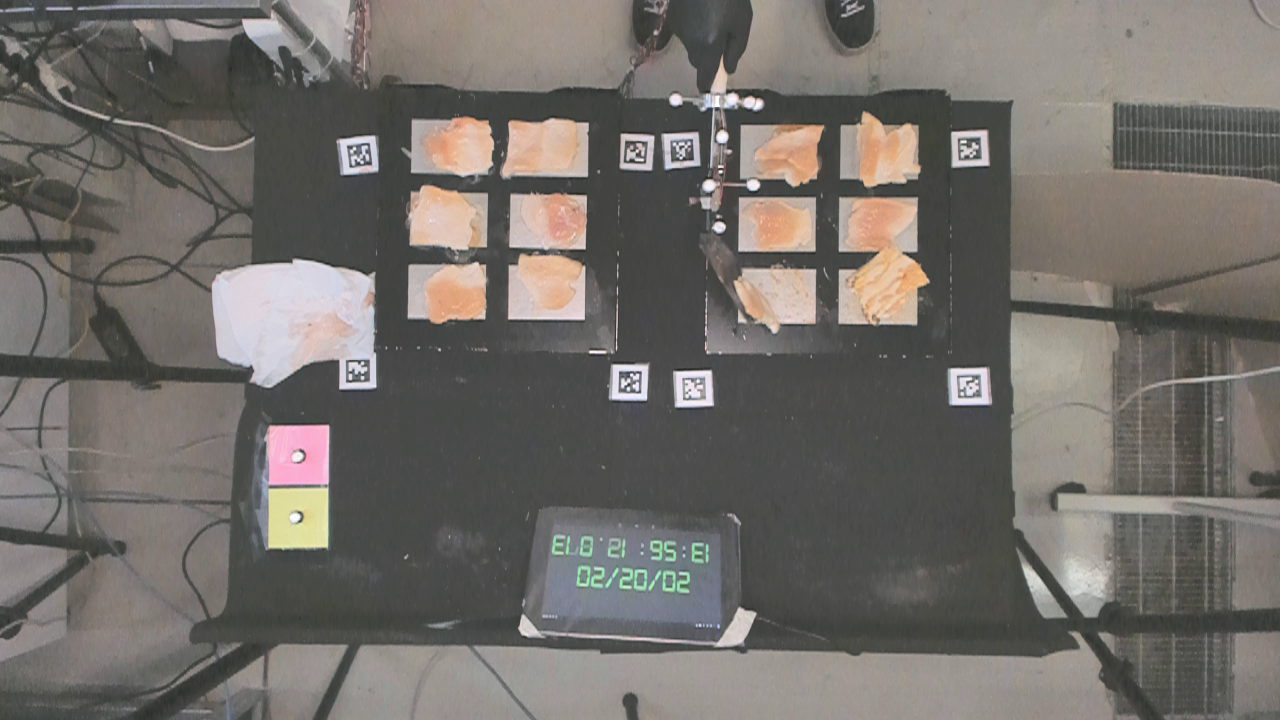chicken: (846, 245, 929, 324), (401, 189, 485, 251), (855, 112, 921, 187), (420, 113, 494, 177), (753, 124, 824, 185), (502, 118, 582, 172), (847, 198, 924, 250), (516, 254, 585, 311), (425, 260, 485, 323), (523, 189, 585, 246), (744, 199, 815, 248), (735, 279, 781, 329)
marker: (266, 426, 328, 483)
